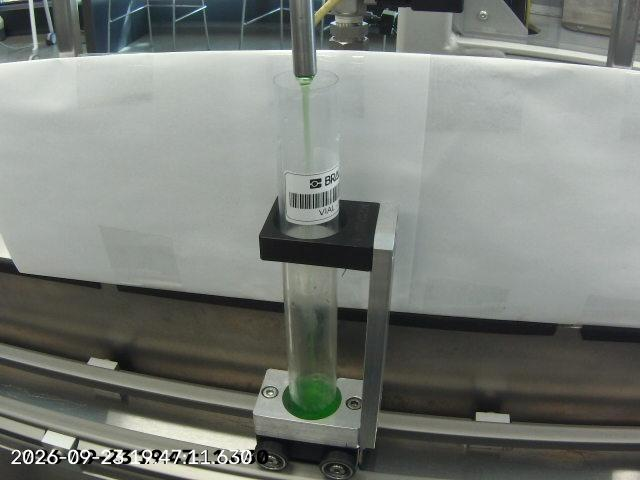vial: (257, 58, 357, 425)
